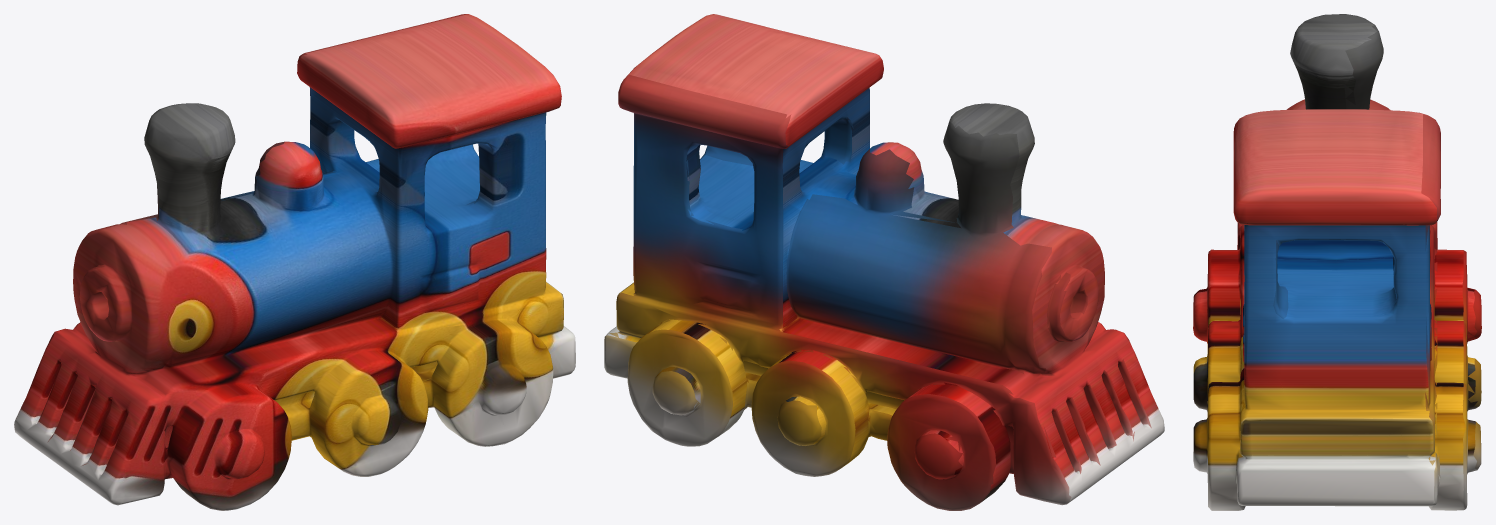
File: toy_train.glb
3 views of the same model, side by side, from view 1: azimuth 30°, elevation 25°; view 2: azimuth 150°, elevation 25°; view 3: azimuth 270°, elevation 25° (orthographic). The views are drawn at different scales.
Visible parts, largest first — view 1: toy_train; view 2: toy_train; view 3: toy_train.
Boxes of the visible parts, x1=… form: toy_train: x1=14, y1=14, x2=575, y2=510; toy_train: x1=604, y1=14, x2=1164, y2=510; toy_train: x1=1193, y1=14, x2=1481, y2=510.
Bounding box in the file's own units: 10 × 7.04 × 5.23.
Materials: 1 (1 with a texture image).
